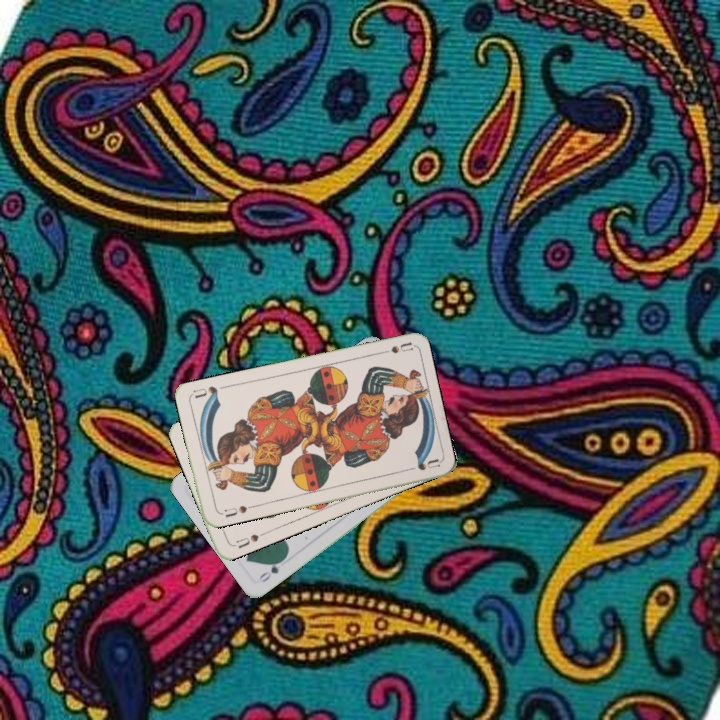GO: (255, 554, 288, 585)
SU: (229, 528, 268, 551), (373, 338, 414, 357), (220, 501, 250, 520)
